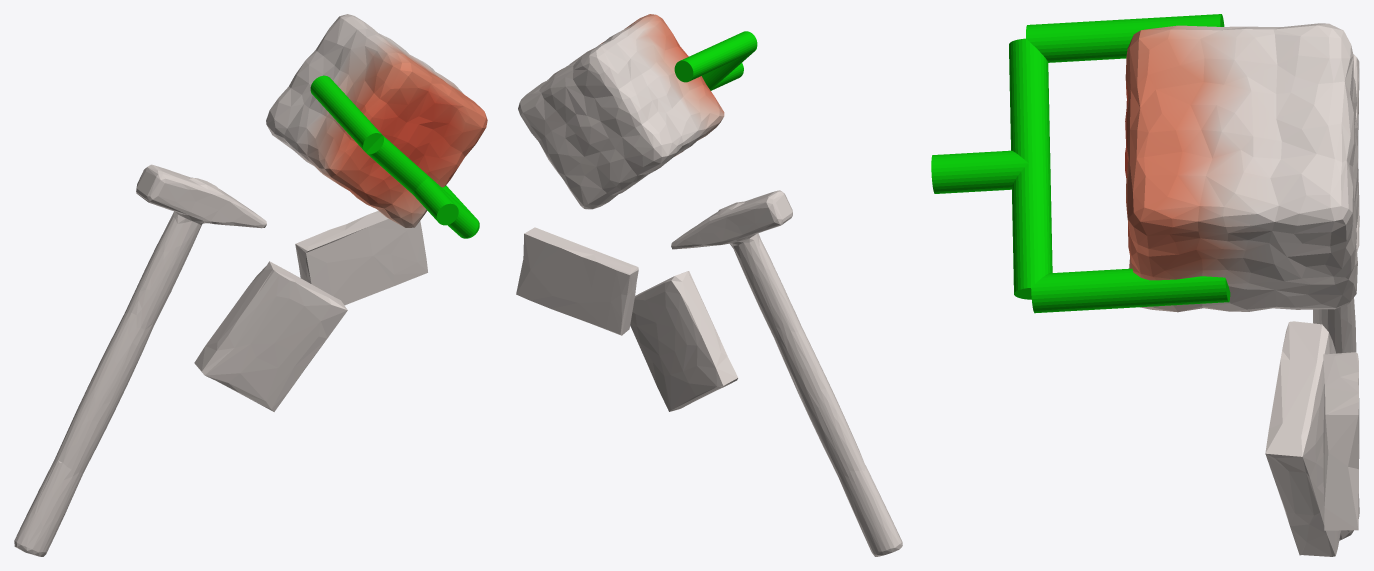
The model's file is round_000_trial_001.obj.
3 renders of one model, left to right at view 1: azimuth 30°, elevation 25°; view 2: azimuth 150°, elevation 25°; view 3: azimuth 270°, elevation 25°, orthographic. The views are drawn at different scales.
Parts seen in each view (by area): view 1: geometry_0, geometry_1; view 2: geometry_0, geometry_1; view 3: geometry_0, geometry_1.
Boxes of the visible parts, x1,y1,x2,y2 form: geometry_0: (14, 14, 487, 556); geometry_1: (310, 75, 479, 238); geometry_0: (516, 14, 902, 556); geometry_1: (674, 31, 757, 90); geometry_0: (1125, 23, 1359, 556); geometry_1: (931, 14, 1230, 313).
Bounding box in the file's own units: 0.195 × 0.2119 × 0.1093.
